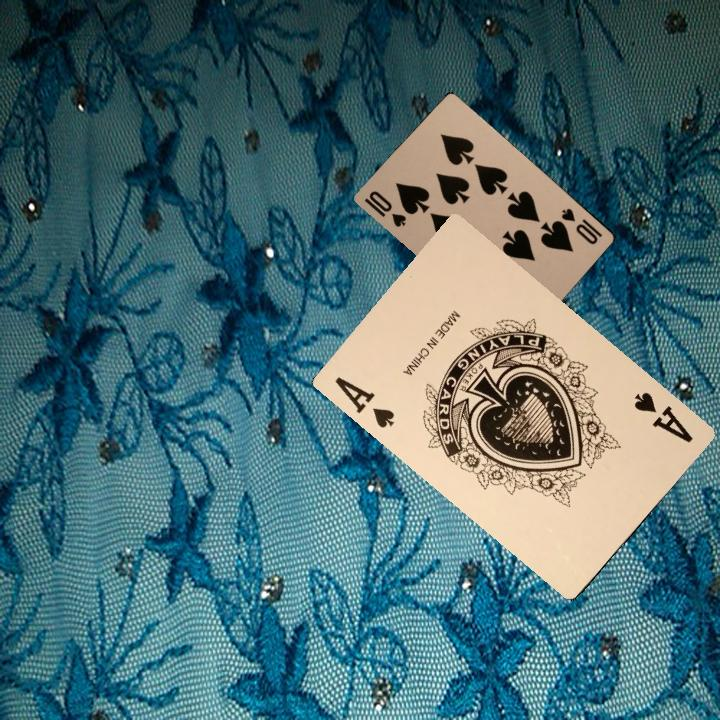10s: (360, 185, 409, 230), (557, 204, 605, 247)
As: (330, 372, 397, 431), (630, 388, 696, 446)
